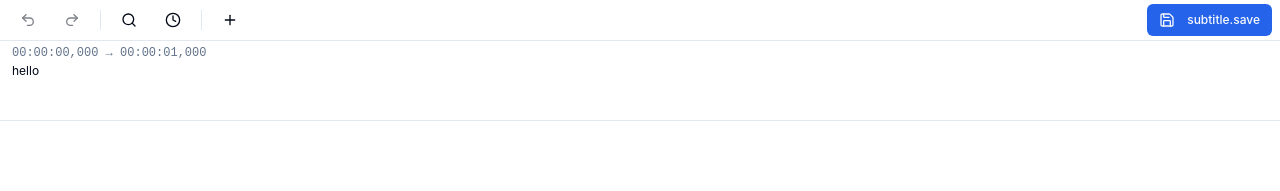
SubtitleListPanel - 有字幕状态 › 切换查找替换面板
// 查找替换按钮是工具栏第 3 个按钮
Click the 3rd button at (129, 20), box [109,4,149,36]
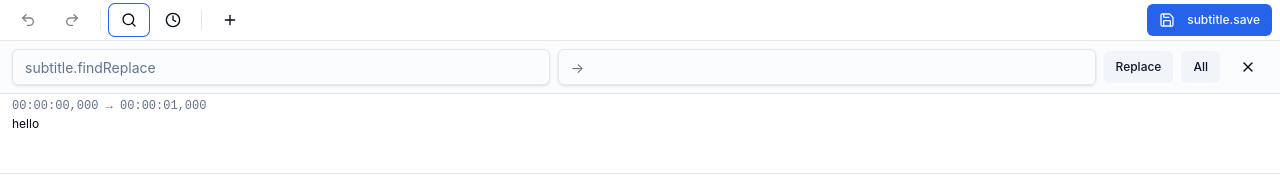
Result: the field with placeholder "subtitle.findReplace" is shown at [12,49,550,85]
